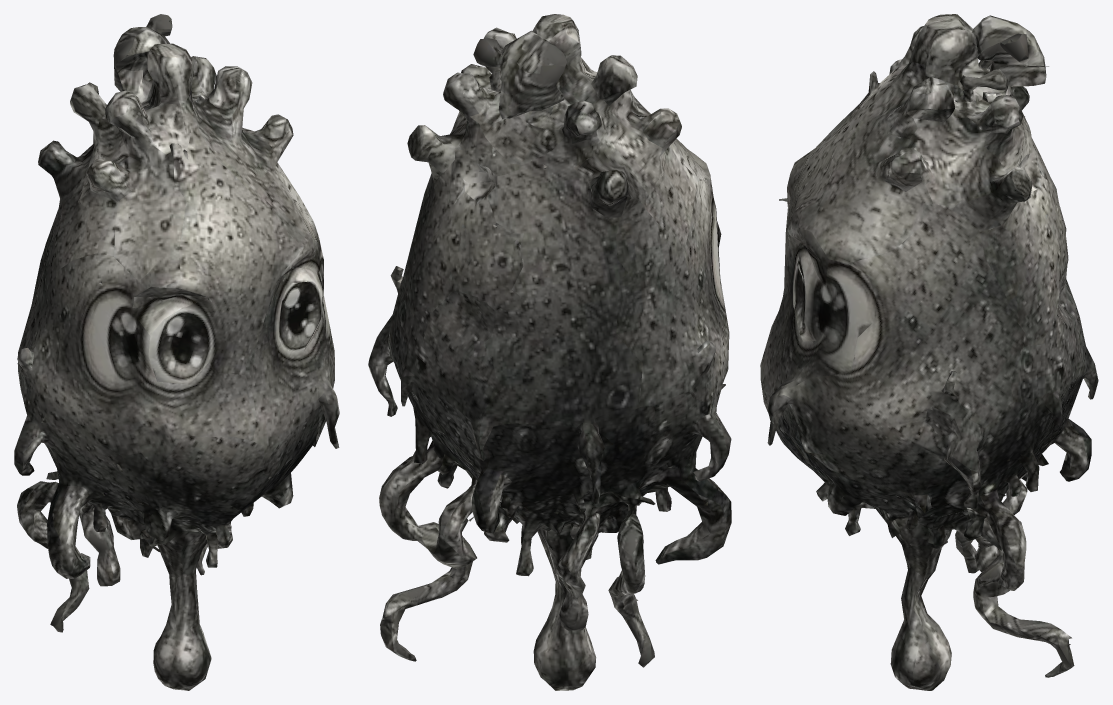
Rendered from blob_tentacoli.glb.
The picture shows the model from 3 angles, left to right: view 1: azimuth 30°, elevation 25°; view 2: azimuth 150°, elevation 25°; view 3: azimuth 270°, elevation 25°; orthographic projection. The views are drawn at different scales.
Parts seen in each view (by area): view 1: geometry_0; view 2: geometry_0; view 3: geometry_0.
Part boxes in pixels (box(x1,y1,x2,y2)): geometry_0: box(14, 14, 339, 690); geometry_0: box(368, 14, 731, 690); geometry_0: box(760, 14, 1098, 690).
Bounding box in the file's own units: 1.04 × 1.97 × 0.9025.
Materials: 1 (1 with a texture image).
